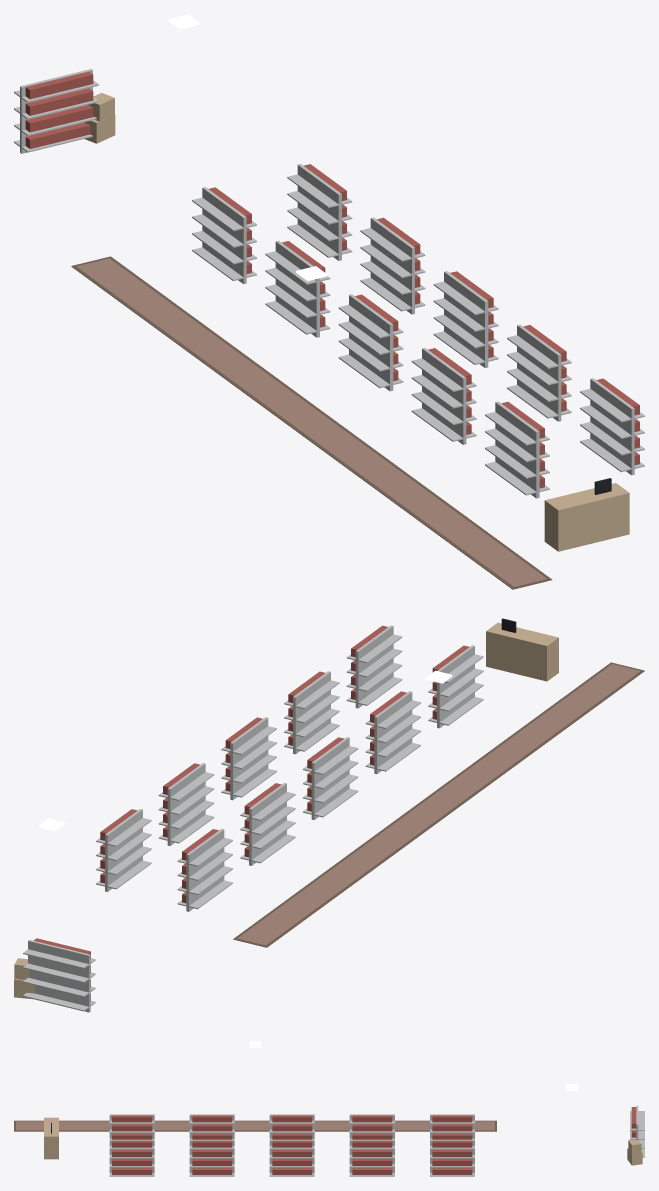
Rendered from fine-s0.glb.
3 views of the same model, one above another, from view 1: azimuth 30°, elevation 25°; view 2: azimuth 150°, elevation 25°; view 3: azimuth 270°, elevation 25° (orthographic). The views are drawn at different scales.
Parts seen in each view (by area): view 1: soft-s0, shelving.000, shop-counter.000, shelf.006, shelf.002, shelf.003, shelf.005, shelf.007, shelf.000, shelf.008, shelf.004, shelf.009 (+2 smaller); view 2: soft-s0, shelving.000, shop-counter.000, shelf.007, shelf.009, shelf.006, shelf.002, shelf.001, shelf.008, shelf.005, shelf.000, shelf.003 (+2 smaller); view 3: soft-s0, shelf.006, shelf.007, shelf.008, shelf.009, shelf.005, shelf.001, shelf.002, shelf.003, shelf.004, shelf.000, shop-counter.000 (+2 smaller).
Part boxes in pixels (left/top/right/bottom): soft-s0: left=71, top=256, right=552, bottom=589; shelving.000: left=14, top=69, right=98, bottom=153; shop-counter.000: left=544, top=478, right=629, bottom=551; shelf.006: left=360, top=217, right=425, bottom=314; shelf.002: left=338, top=294, right=403, bottom=391; shelf.003: left=411, top=348, right=476, bottom=444; shelf.005: left=287, top=164, right=352, bottom=260; shelf.007: left=433, top=271, right=498, bottom=367; shelf.000: left=192, top=187, right=256, bottom=284; shelf.008: left=507, top=324, right=571, bottom=421; shelf.004: left=485, top=401, right=549, bottom=498; shelf.009: left=580, top=378, right=644, bottom=475; soft-s0: left=233, top=662, right=644, bottom=947; shelving.000: left=23, top=938, right=95, bottom=1012; shop-counter.000: left=486, top=618, right=558, bottom=681; shelf.007: left=221, top=717, right=276, bottom=800; shelf.009: left=346, top=625, right=402, bottom=708; shelf.006: left=158, top=763, right=214, bottom=845; shelf.002: left=303, top=737, right=358, bottom=819; shelf.001: left=240, top=783, right=295, bottom=865; shelf.008: left=284, top=671, right=339, bottom=754; shelf.005: left=96, top=809, right=151, bottom=891; shelf.000: left=177, top=828, right=232, bottom=911; shelf.003: left=365, top=691, right=420, bottom=774; soft-s0: left=14, top=1120, right=496, bottom=1131; shelf.006: left=349, top=1139, right=394, bottom=1176; shelf.007: left=269, top=1139, right=314, bottom=1176; shelf.008: left=189, top=1139, right=234, bottom=1176; shelf.009: left=109, top=1139, right=154, bottom=1176; shelf.005: left=430, top=1139, right=474, bottom=1176; shelf.001: left=349, top=1114, right=394, bottom=1139; shelf.002: left=269, top=1114, right=314, bottom=1139; shelf.003: left=189, top=1114, right=234, bottom=1139; shelf.004: left=109, top=1114, right=154, bottom=1139; shelf.000: left=430, top=1114, right=474, bottom=1139; shop-counter.000: left=44, top=1117, right=58, bottom=1159.
Size of the model in its own units: 5.54 by 3.64 by 25.22.
